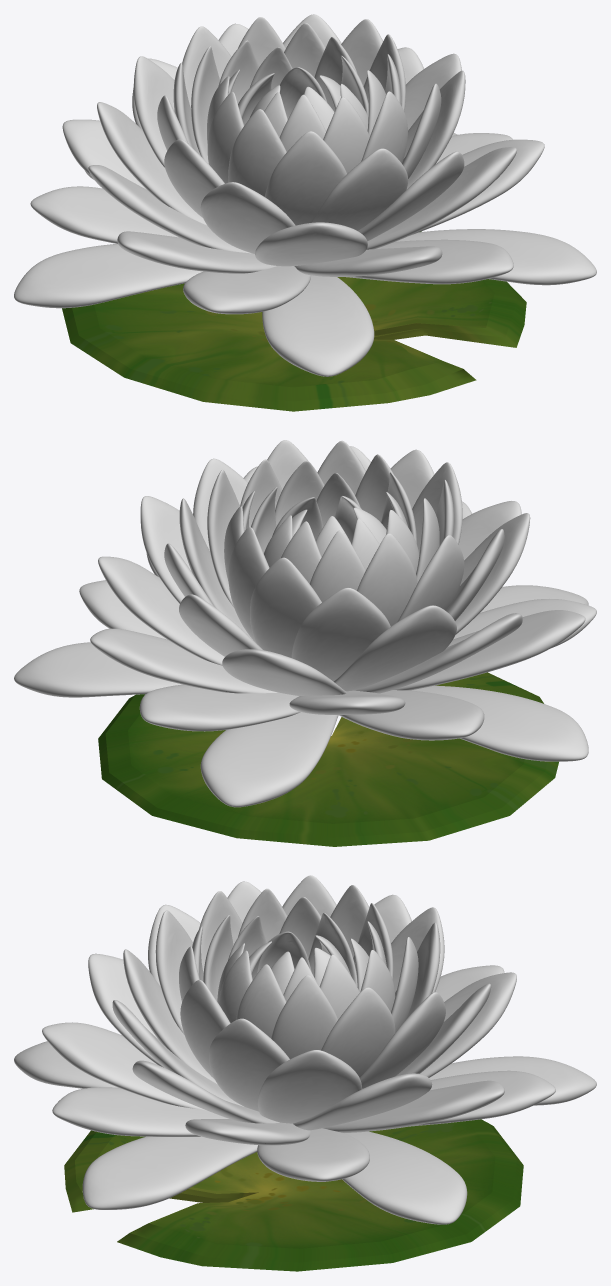
File: lotus_flower.glb
3 renders of one model, top to bottom at view 1: azimuth 30°, elevation 25°; view 2: azimuth 150°, elevation 25°; view 3: azimuth 270°, elevation 25°, orthographic. The views are drawn at different scales.
Parts seen in each view (by area): view 1: 球体, Grote_Lily; view 2: 球体, Grote_Lily; view 3: 球体, Grote_Lily.
Part boxes in pixels (bbox=[...]): 球体: bbox=[14, 14, 596, 376]; Grote_Lily: bbox=[62, 231, 526, 411]; 球体: bbox=[14, 440, 596, 807]; Grote_Lily: bbox=[98, 672, 558, 846]; 球体: bbox=[14, 875, 596, 1224]; Grote_Lily: bbox=[64, 1119, 523, 1271].
Bounding box in the file's own units: 20.83 × 10.72 × 21.16.
Materials: 2 (1 with a texture image).
